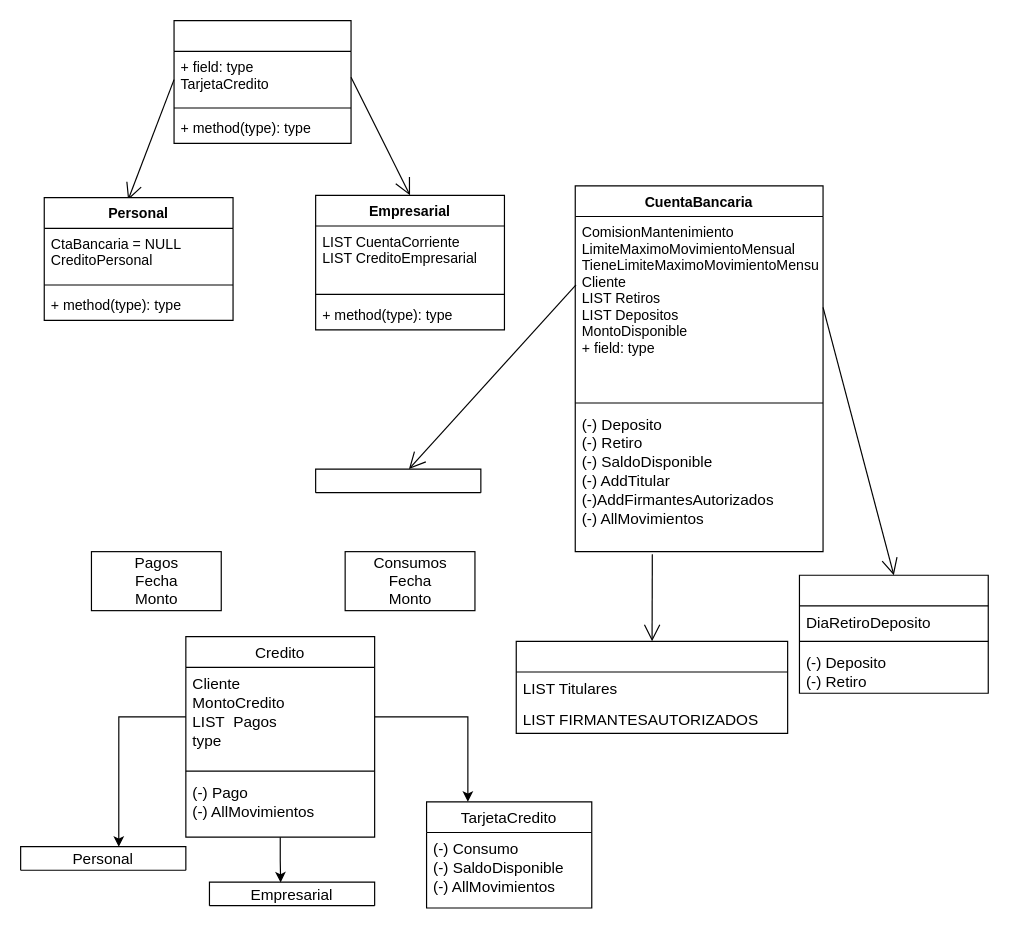
Some shapes in this 1009 by 932 pixel diagram are drawn without their labels. The shapes that lost their labels are listed below. From the top down, each one's box as (x1, y1, x2, y2) in pixels, then its label:
(173, 19, 351, 143): Cliente
(314, 468, 481, 493): Ahorro
(798, 574, 988, 693): Plazo Fijo
(515, 640, 788, 733): Cuenta Corriente
